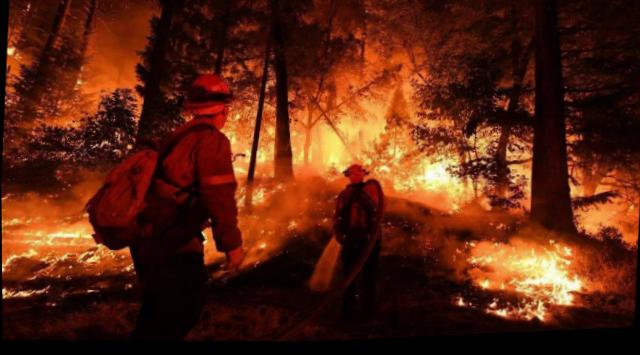fire: (220, 58, 482, 202), (1, 186, 141, 307), (457, 220, 584, 331)
